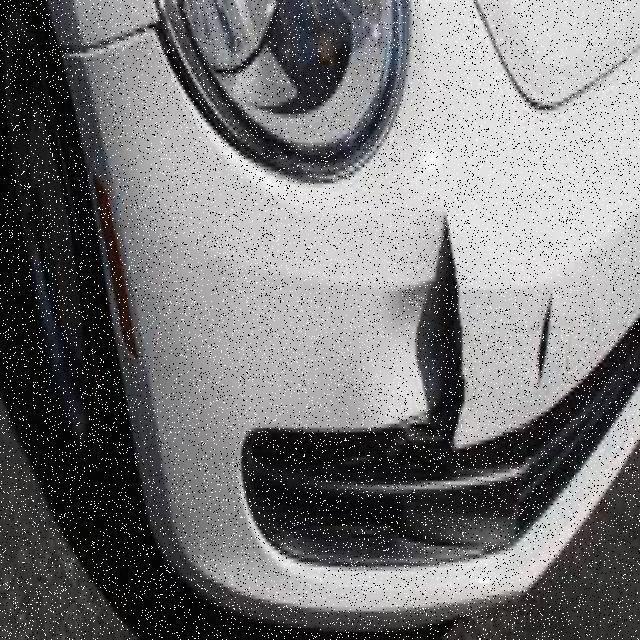front-bumper-dent: (118, 137, 578, 606)
